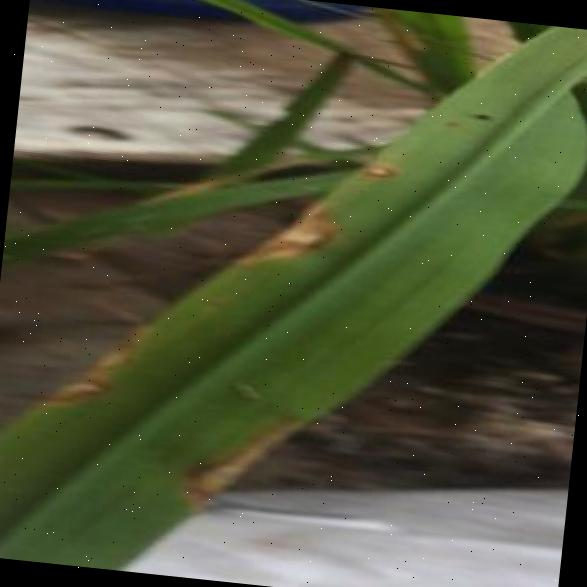Leaf_smut: (216, 168, 387, 298), (180, 397, 332, 505), (17, 336, 150, 431), (330, 133, 434, 223)
